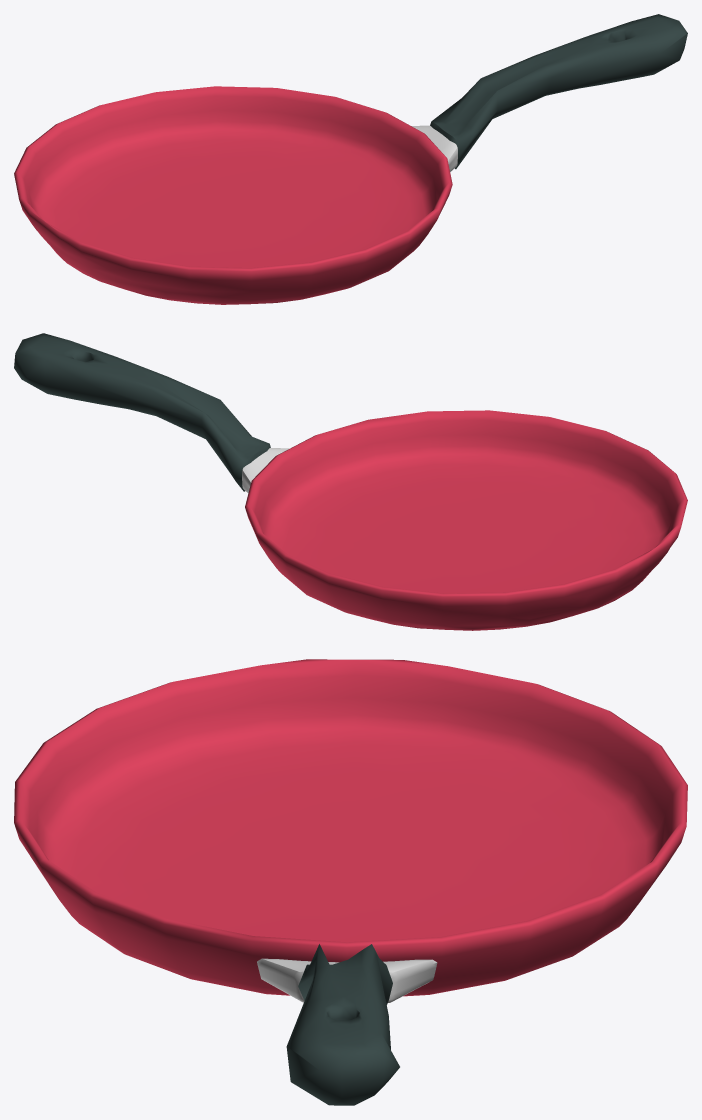
The model's file is frying pan.fbx.
3 renders of one model, top to bottom at view 1: azimuth 30°, elevation 25°; view 2: azimuth 150°, elevation 25°; view 3: azimuth 270°, elevation 25°, orthographic. The views are drawn at different scales.
Parts seen in each view (by area): view 1: pan, handle, handle extension; view 2: pan, handle, handle extension; view 3: pan, handle, handle extension.
Boxes of the visible parts, x1=… form: pan: x1=14, y1=86, x2=452, y2=304; handle: x1=430, y1=14, x2=687, y2=169; handle extension: x1=411, y1=125, x2=457, y2=171; pan: x1=245, y1=410, x2=687, y2=630; handle: x1=14, y1=333, x2=270, y2=491; handle extension: x1=242, y1=448, x2=289, y2=493; pan: x1=14, y1=659, x2=687, y2=996; handle: x1=286, y1=944, x2=399, y2=1105; handle extension: x1=257, y1=958, x2=437, y2=1002.
Bounding box in the file's own units: 53.19 × 8.08 × 31.67.
